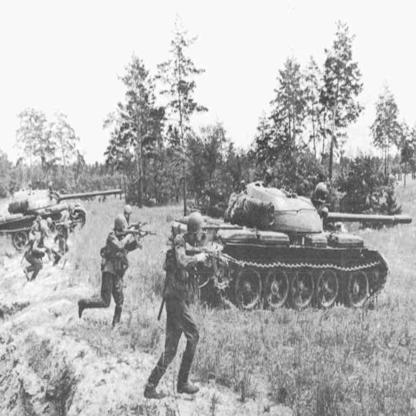Tank: (176, 182, 416, 324)
